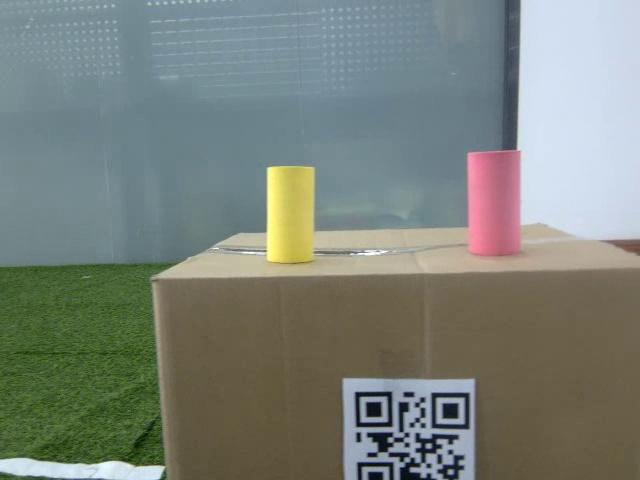red_cylinder: (468, 148, 521, 258)
yellow_cylinder: (266, 165, 314, 264)
